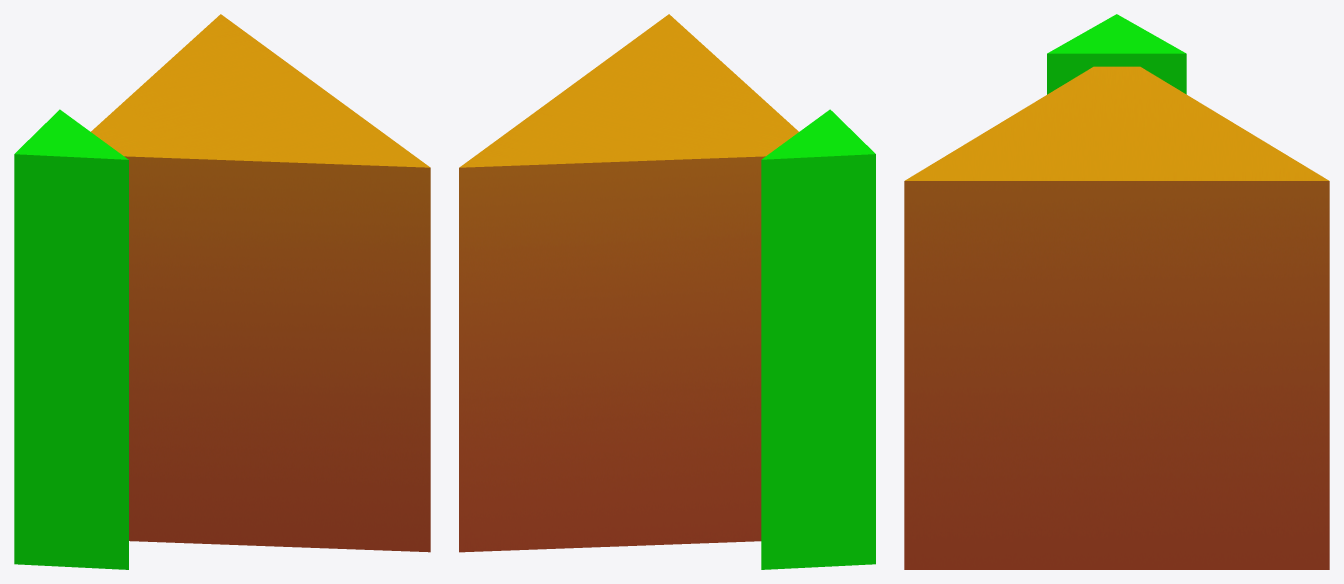
File: Tryngles.fbx
3 renders of one model, left to right at view 1: azimuth 30°, elevation 25°; view 2: azimuth 150°, elevation 25°; view 3: azimuth 270°, elevation 25°, orthographic.
Parts seen in each view (by area): view 1: Cube.002, Cube.001; view 2: Cube.002, Cube.001; view 3: Cube.002, Cube.001.
Boxes of the visible parts, left/top/right/bottom form: Cube.002: left=91, top=14, right=430, bottom=552; Cube.001: left=14, top=109, right=128, bottom=569; Cube.002: left=459, top=14, right=798, bottom=552; Cube.001: left=761, top=109, right=875, bottom=569; Cube.002: left=904, top=66, right=1329, bottom=569; Cube.001: left=1047, top=14, right=1186, bottom=94.
Size of the model in its own units: 170 by 213 by 198.
